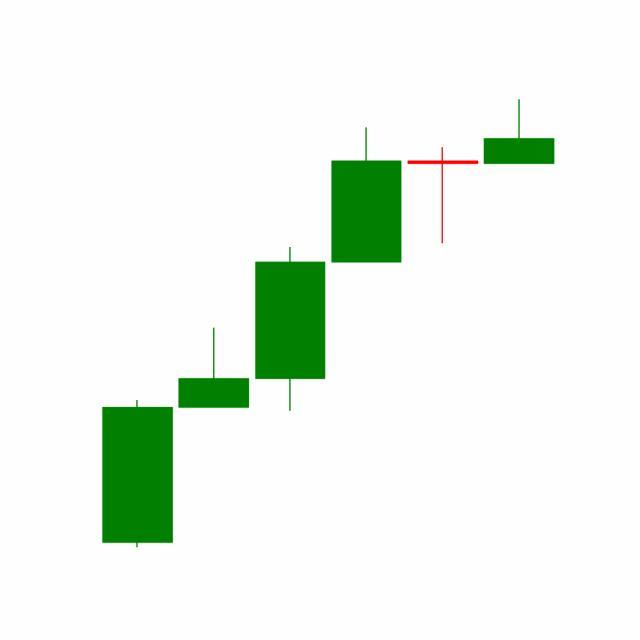Spinning Top: (404, 147, 482, 246)
